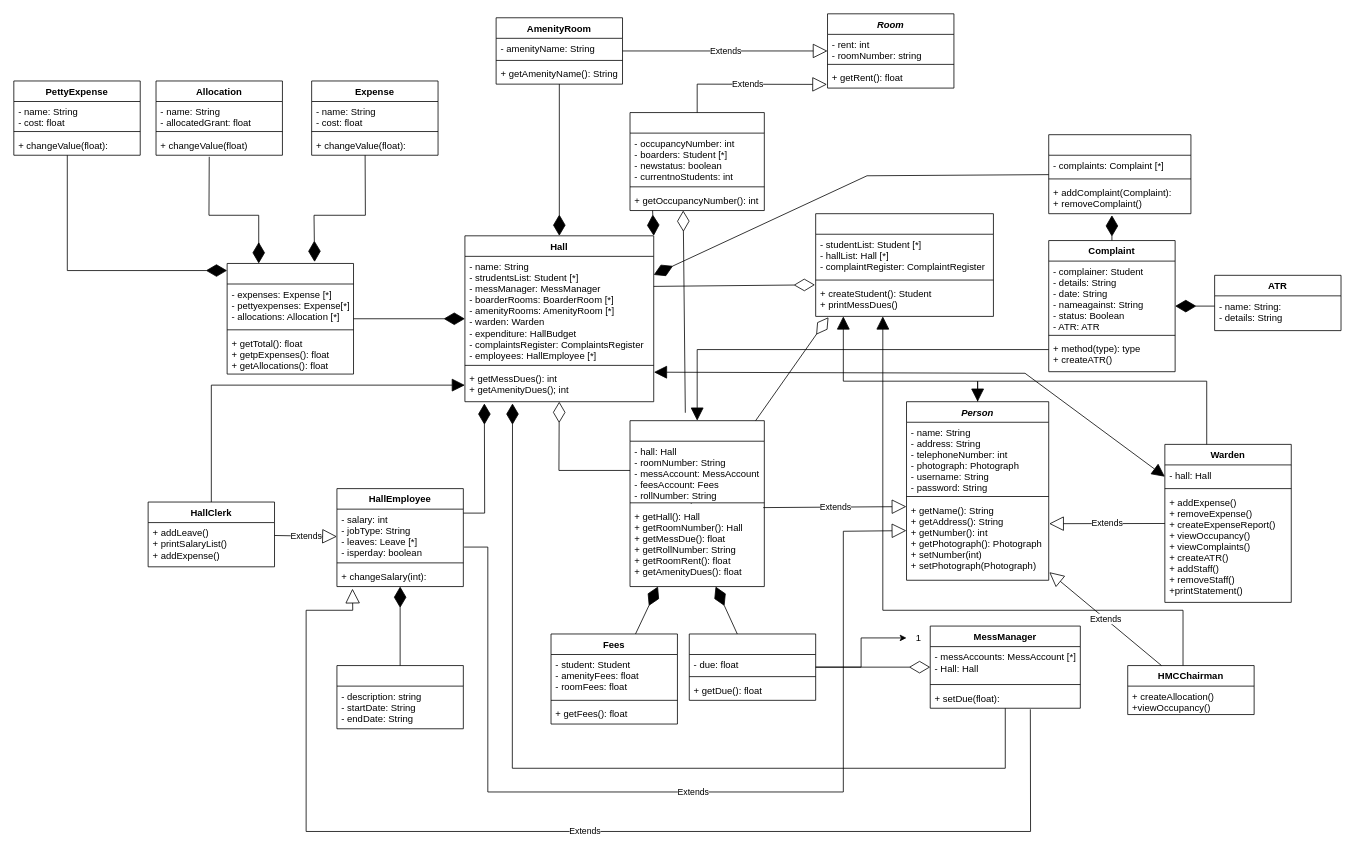
Image size: 1355x860. Some labels were removed from this diagram. The box of each missing label's shape, as (x1, y1, x2, y2) in pixels:
BoarderRoom: (629, 112, 764, 211)
ComplaintRegister: (1048, 134, 1191, 214)
HallBudget: (226, 263, 354, 374)
HallManagementSystem: (815, 213, 993, 316)
Leave: (336, 665, 463, 729)
MessAccount: (688, 633, 816, 700)
Student: (629, 420, 764, 587)
